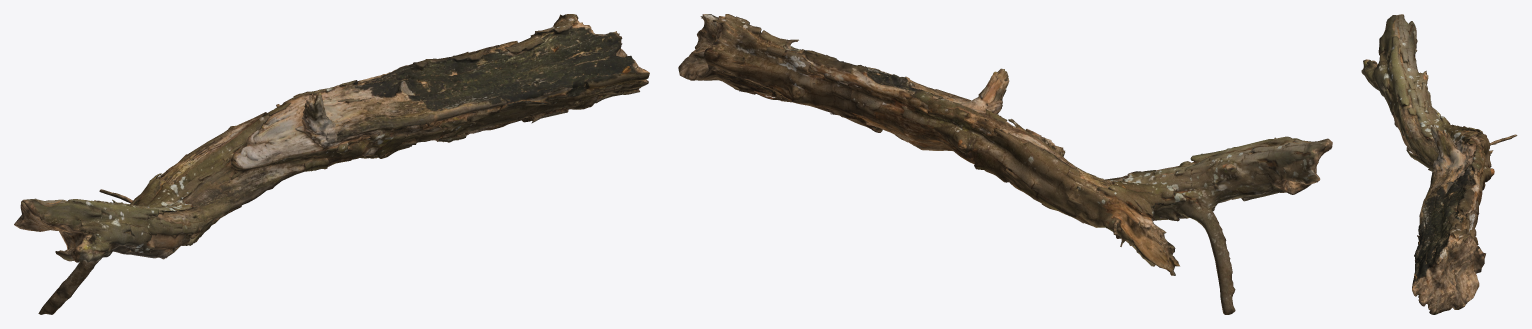
The model's file is dead_tree_trunk_02.glb.
3 views of the same model, side by side, from view 1: azimuth 30°, elevation 25°; view 2: azimuth 150°, elevation 25°; view 3: azimuth 270°, elevation 25° (orthographic). The views are drawn at different scales.
Parts seen in each view (by area): view 1: dead_tree_trunk_02; view 2: dead_tree_trunk_02; view 3: dead_tree_trunk_02.
Boxes of the visible parts, x1=… form: dead_tree_trunk_02: x1=14, y1=14, x2=649, y2=314; dead_tree_trunk_02: x1=678, y1=14, x2=1332, y2=314; dead_tree_trunk_02: x1=1361, y1=14, x2=1517, y2=314.
Size of the model in its own units: 4.05 by 1.05 by 1.05.
1 material, 1 textured.
